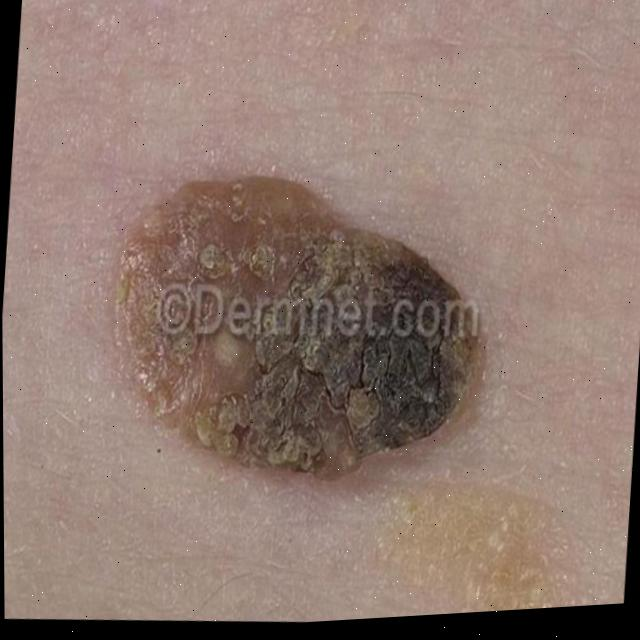Eczema: (36, 128, 610, 638)
